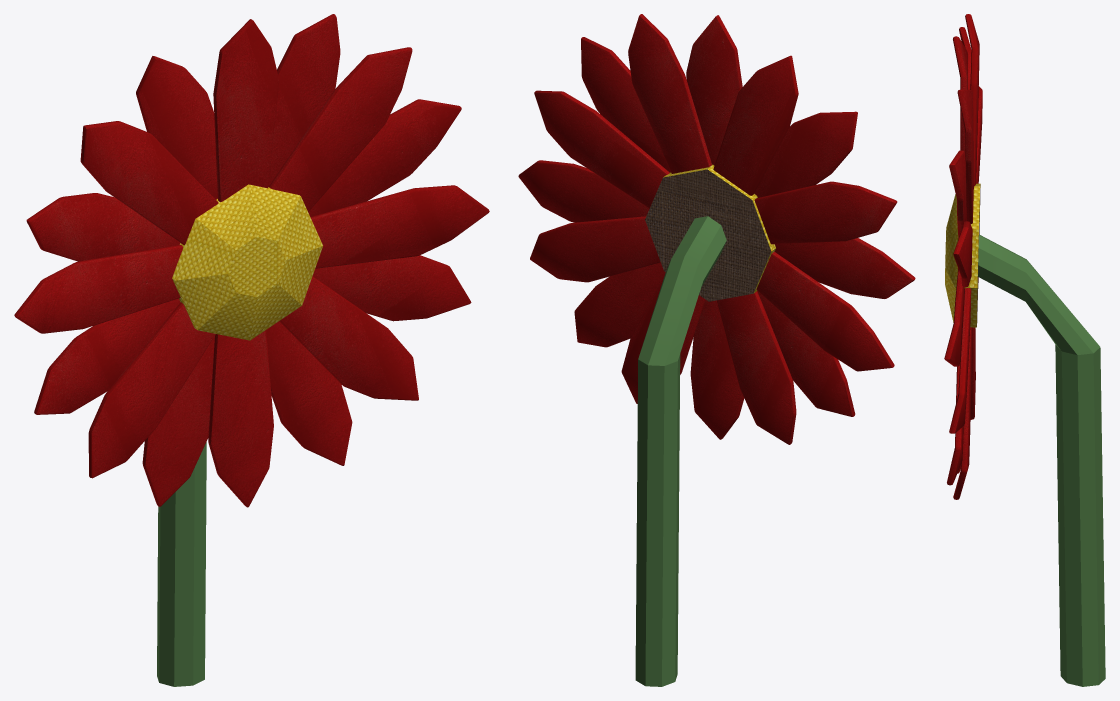
The model's file is daisy_red.fbx.
The picture shows the model from 3 angles, left to right: view 1: azimuth 30°, elevation 25°; view 2: azimuth 150°, elevation 25°; view 3: azimuth 270°, elevation 25°; orthographic projection. The views are drawn at different scales.
Parts seen in each view (by area): view 1: Petals001, Ovule, Stem; view 2: Petals001, Ovule, Stem; view 3: Stem, Petals001, Ovule.
Part boxes in pixels (x1=…): Petals001: x1=14, y1=14, x2=489, y2=507; Ovule: x1=172, y1=184, x2=322, y2=340; Stem: x1=157, y1=442, x2=206, y2=686; Petals001: x1=518, y1=14, x2=915, y2=444; Ovule: x1=638, y1=164, x2=775, y2=365; Stem: x1=635, y1=354, x2=680, y2=686; Stem: x1=1055, y1=344, x2=1105, y2=686; Petals001: x1=944, y1=14, x2=982, y2=499; Ovule: x1=945, y1=183, x2=1099, y2=355.
Bounding box in the file's own units: 113 × 165 × 37.65.
Materials: 4 (4 with a texture image).
